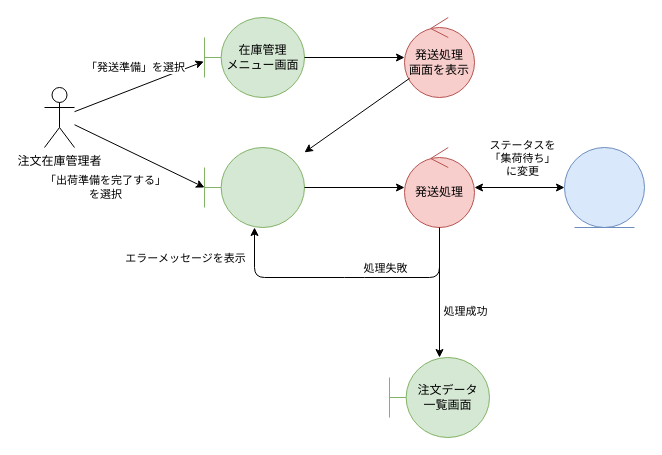
This 662x455 diagram has some shape labels left out. Each missing label, with the centre of its shape:
BB販売 システム: the point at 604,187
出荷準備画面: the point at 254,187
